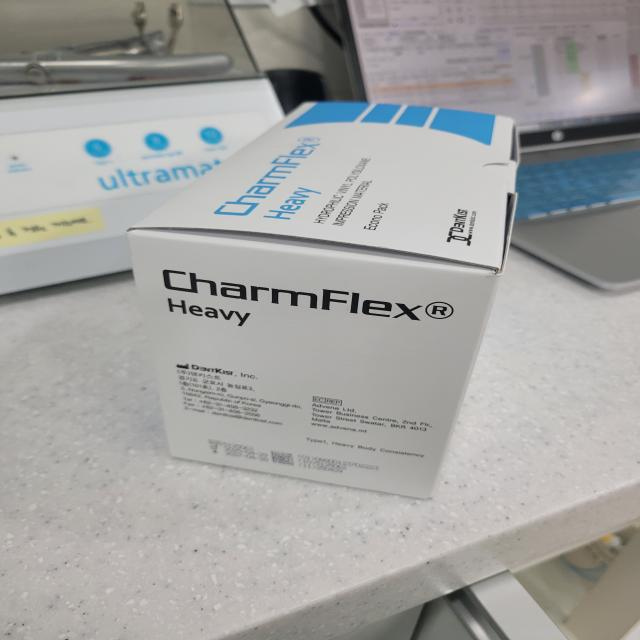impression: (110, 86, 544, 528)
